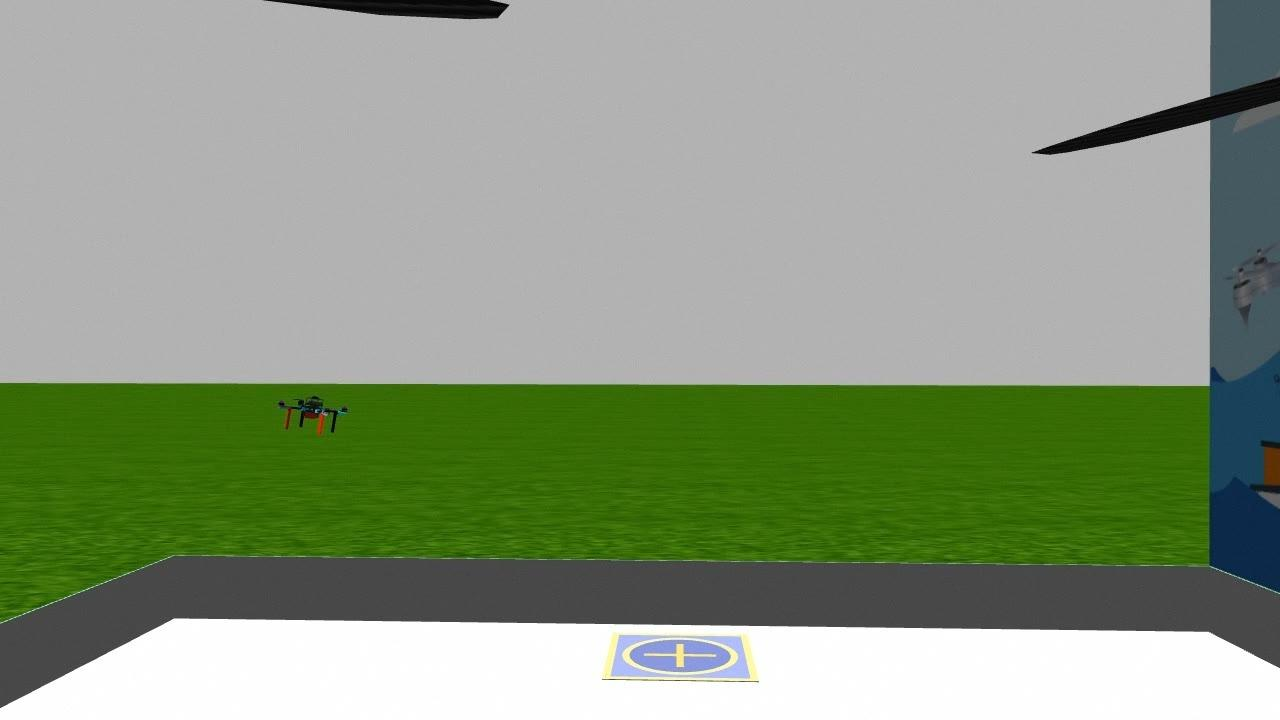UAV: (266, 384, 356, 444)
